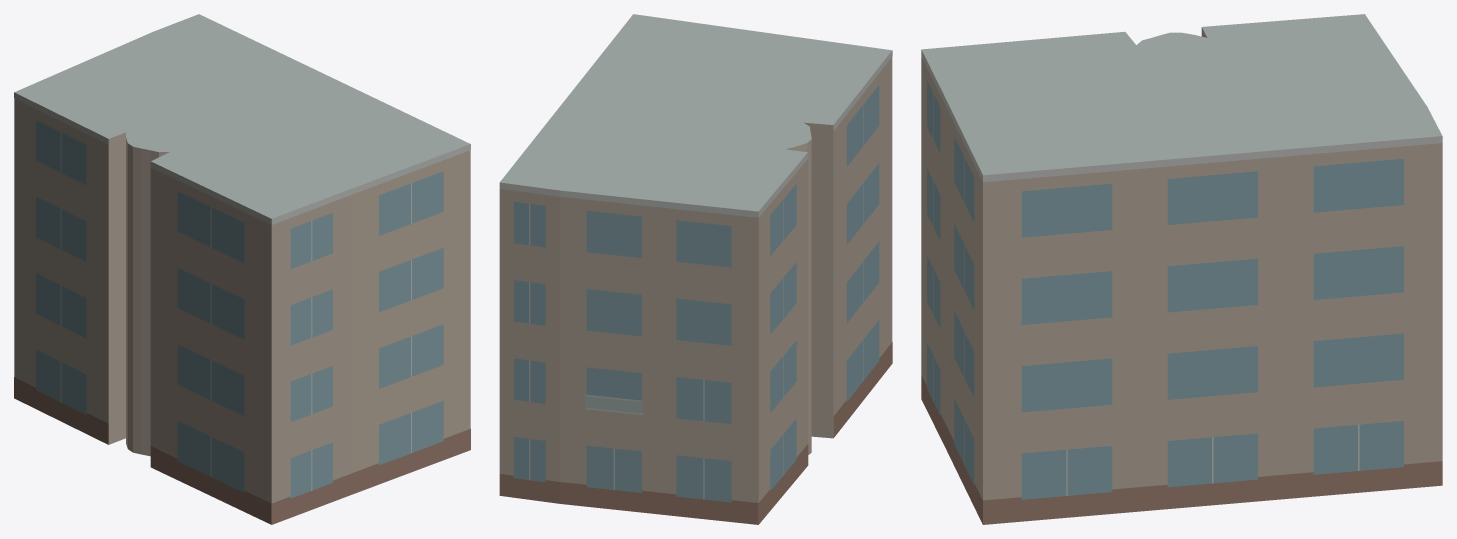
Rendered from survey-upis-32935982.glb.
3 views of the same model, side by side, from view 1: azimuth 30°, elevation 25°; view 2: azimuth 150°, elevation 25°; view 3: azimuth 270°, elevation 25° (orthographic). The views are drawn at different scales.
Visible parts, largest first — view 1: survey-upis-32935982.tmp; view 2: survey-upis-32935982.tmp; view 3: survey-upis-32935982.tmp.
Part boxes in pixels (x1,y1,x2,y2): survey-upis-32935982.tmp: [14, 14, 470, 524]; survey-upis-32935982.tmp: [499, 14, 892, 524]; survey-upis-32935982.tmp: [921, 14, 1442, 524].
Size of the model in its own units: 12.09 by 12.2 by 16.5.
